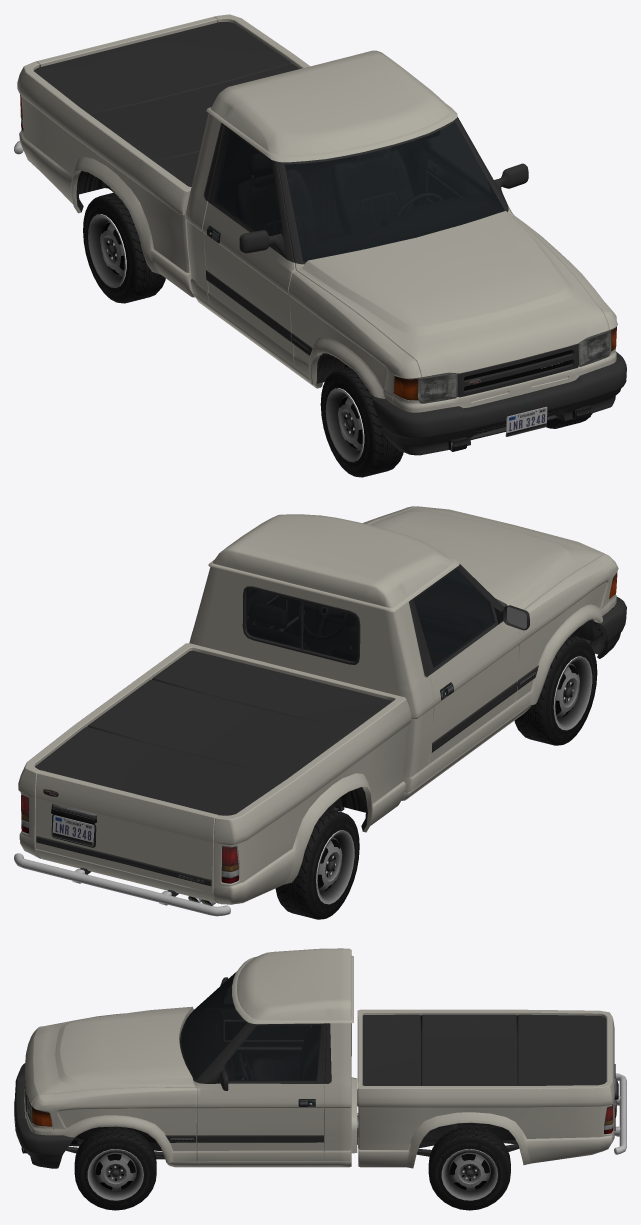
The model's file is conquer-89-pickup-low-poly-model-6c48c9.glb.
3 views of the same model, one above another, from view 1: azimuth 30°, elevation 25°; view 2: azimuth 150°, elevation 25°; view 3: azimuth 270°, elevation 25° (orthographic). The views are drawn at different scales.
Visible parts, largest first — view 1: body, wheel-back-right, wheel-front-right; view 2: body, wheel-back-right, wheel-front-right; view 3: body, wheel-back-left, wheel-front-left.
Part boxes in pixels (<box>): body: <box>14,14,626,455</box>; wheel-back-right: <box>21,111,165,303</box>; wheel-front-right: <box>320,367,403,477</box>; body: <box>14,506,626,916</box>; wheel-back-right: <box>222,808,359,919</box>; wheel-front-right: <box>514,636,597,745</box>; body: <box>14,948,626,1168</box>; wheel-back-left: <box>428,1105,612,1210</box>; wheel-front-left: <box>74,1126,156,1210</box>.
Size of the model in its own units: 2.1 by 1.85 by 5.22.
Materials: 8 (7 with a texture image).
